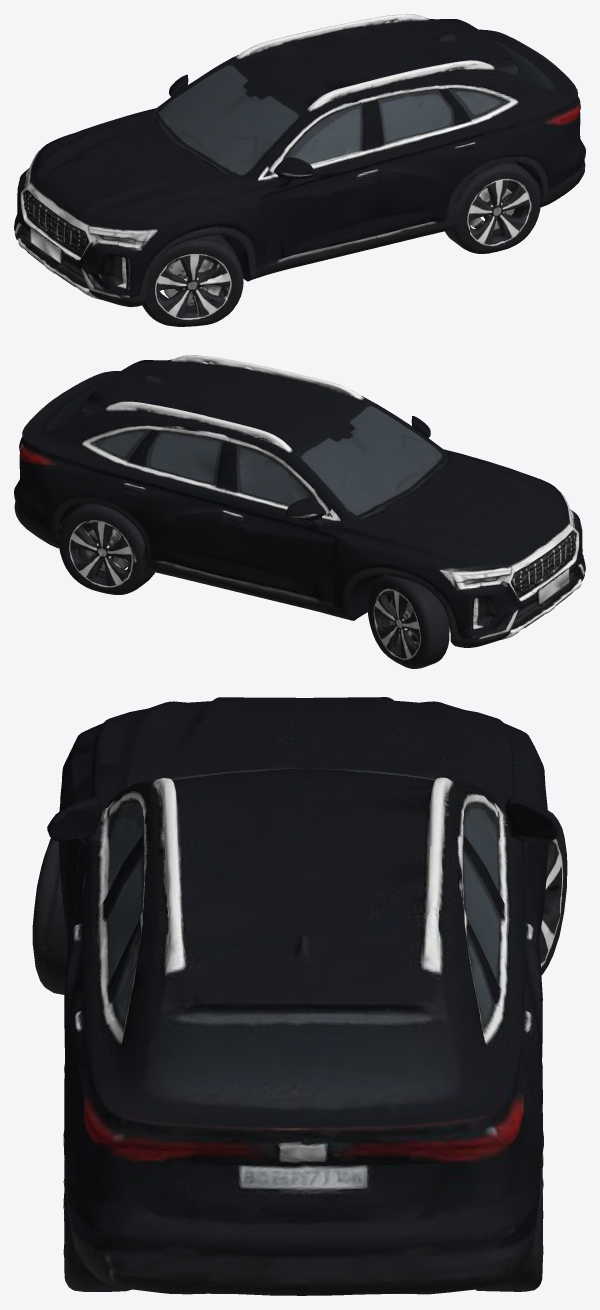
Rendered from rank3_v1.glb.
The picture shows the model from 3 angles, top to bottom: view 1: azimuth 30°, elevation 25°; view 2: azimuth 150°, elevation 25°; view 3: azimuth 270°, elevation 25°; orthographic projection. The views are drawn at different scales.
Bounding box in the file's own units: 1.9 × 0.6382 × 0.8697.
Materials: 1 (1 with a texture image).
